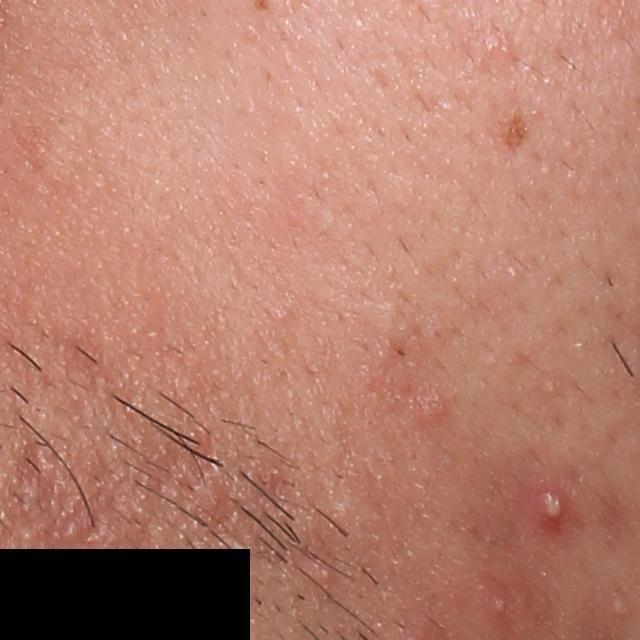comedo: (420, 395, 449, 419), (271, 304, 293, 327), (316, 562, 335, 582), (544, 379, 558, 394)
pustule: (533, 486, 571, 531)
